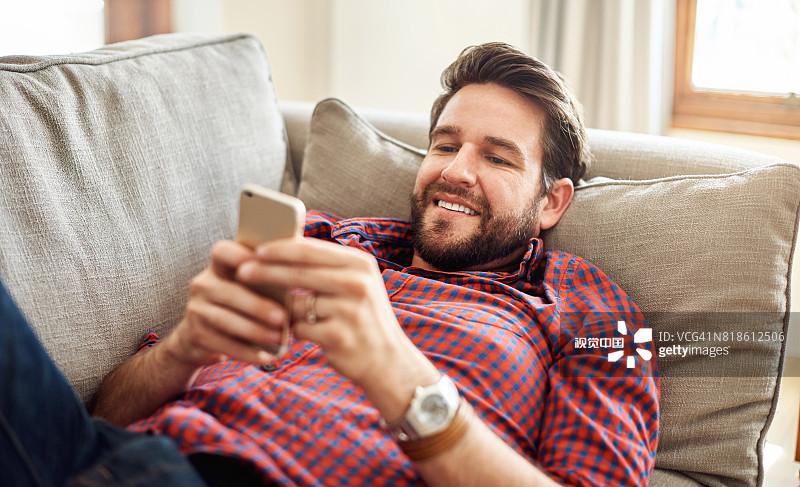reading: (170, 178, 415, 402)
